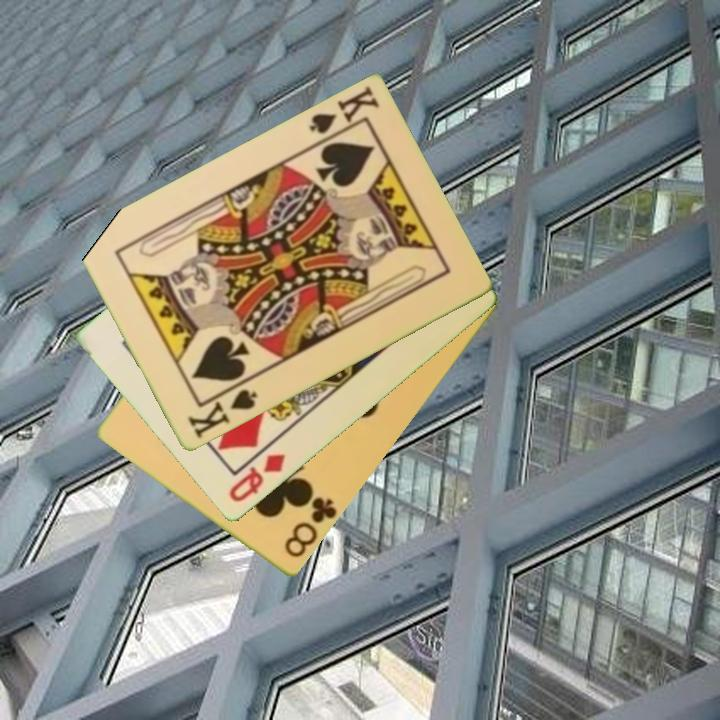8c: (281, 489, 340, 561)
Ks: (305, 83, 382, 148), (184, 378, 260, 442)
Qd: (225, 450, 289, 506)
